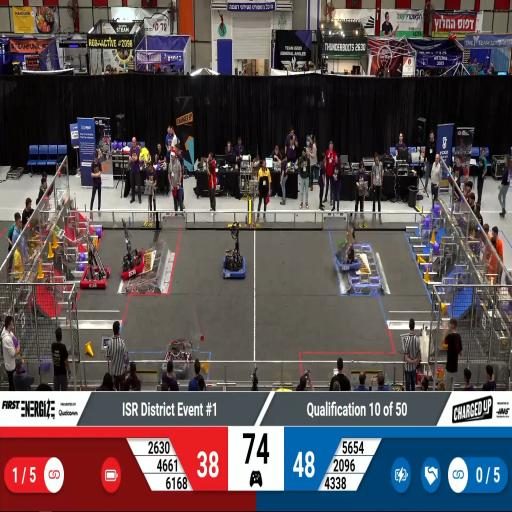robot: (162, 335, 190, 380), (81, 257, 111, 291), (220, 250, 250, 282), (334, 238, 360, 274), (120, 243, 144, 281)
